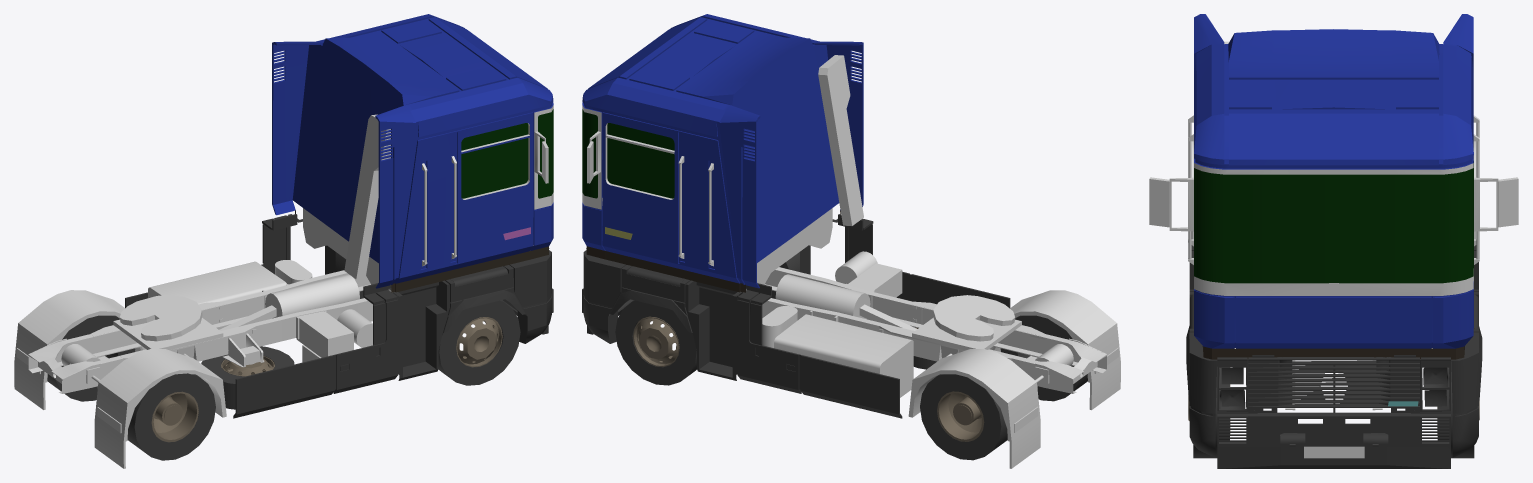
File: truck.glb
3 renders of one model, left to right at view 1: azimuth 30°, elevation 25°; view 2: azimuth 150°, elevation 25°; view 3: azimuth 270°, elevation 25°, orthographic. The views are drawn at different scales.
Visible parts, largest first — view 1: LLANTA DE6; view 2: LLANTA DE6; view 3: LLANTA DE6.
Part boxes in pixels (x1,y1,x2,y2): LLANTA DE6: [14, 14, 553, 468]; LLANTA DE6: [582, 14, 1120, 468]; LLANTA DE6: [1149, 14, 1518, 468].
Bounding box in the file's own units: 1.04 × 0.6382 × 0.5549.
